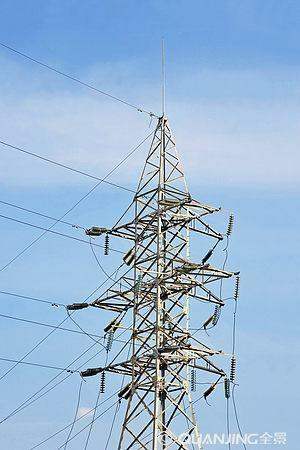power_tower: (63, 109, 248, 432)
